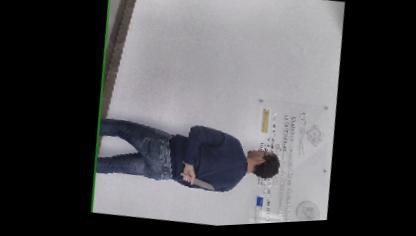knife: (172, 169, 215, 195)
